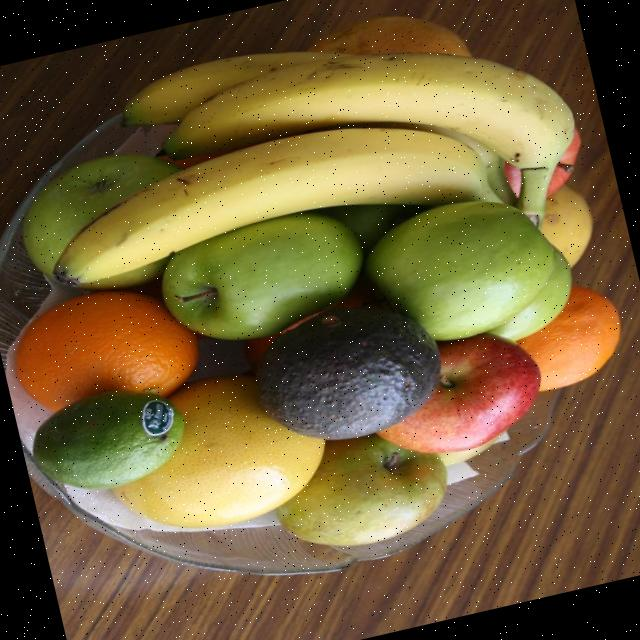apple: (374, 332, 537, 459)
banana: (51, 127, 499, 288), (160, 52, 573, 217)
